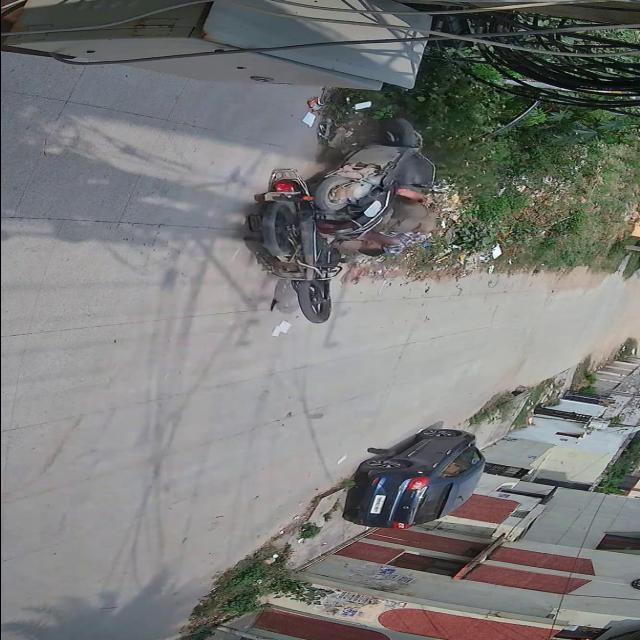accident: (231, 109, 468, 328)
